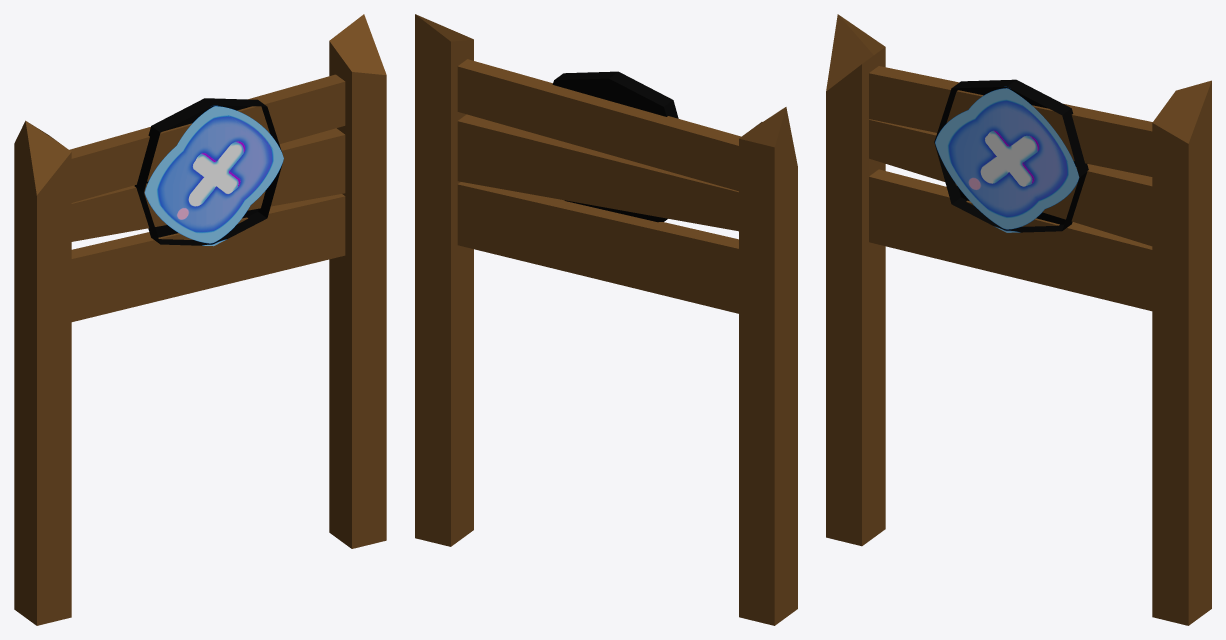
File: Bloqueio de pular.fbx
3 views of the same model, side by side, from view 1: azimuth 30°, elevation 25°; view 2: azimuth 150°, elevation 25°; view 3: azimuth 330°, elevation 25° (orthographic). The views are drawn at different scales.
Visible parts, largest first — view 1: Cube.013; view 2: Cube.013; view 3: Cube.013.
Boxes of the visible parts, left/top/right/bottom form: Cube.013: left=14, top=14, right=386, bottom=625; Cube.013: left=415, top=14, right=797, bottom=625; Cube.013: left=826, top=14, right=1211, bottom=625.
Size of the model in its own units: 308 by 429 by 36.44.
